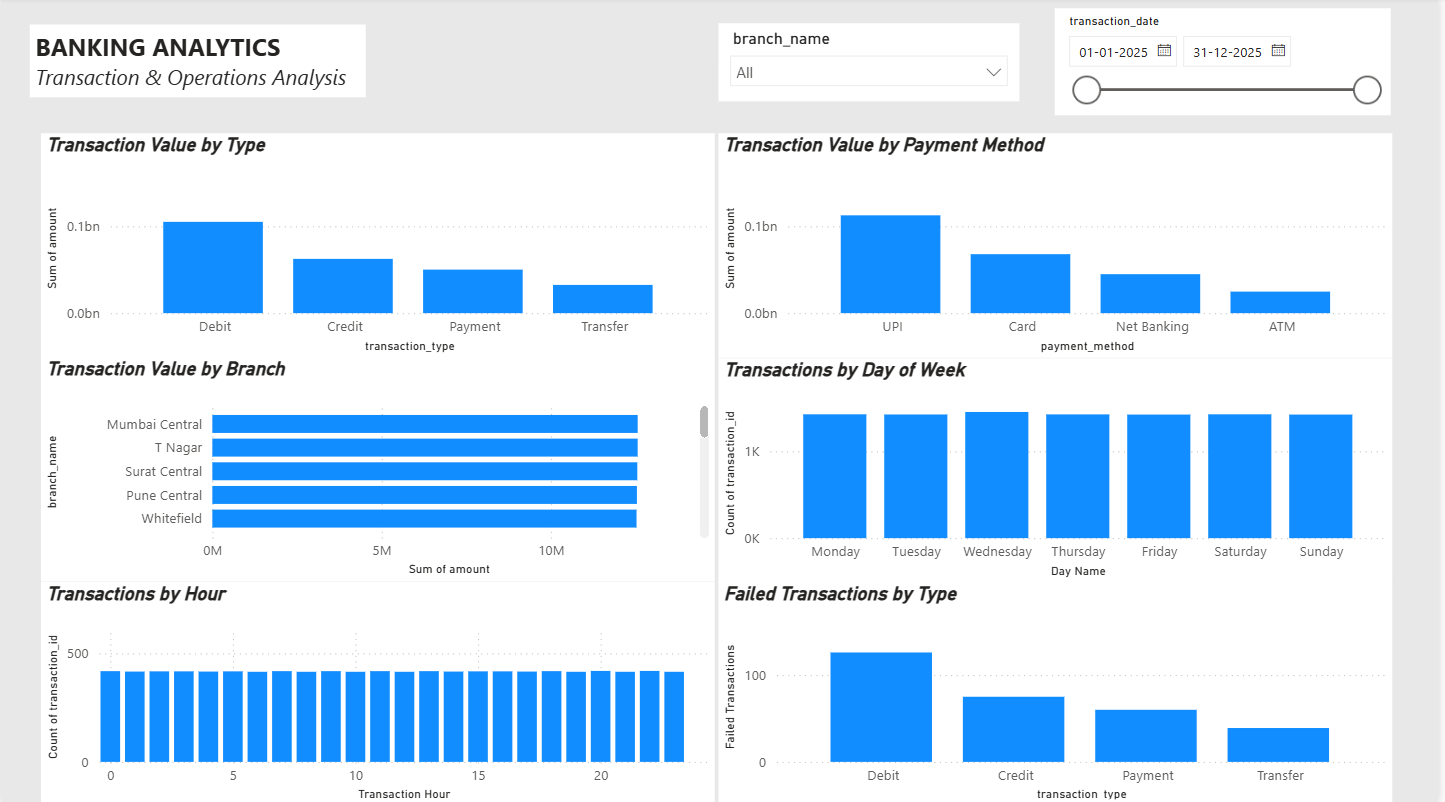

This screenshot's page, from the dashboard's own definition file:
{"tool":"powerbi","page":{"name":"Transaction & Operations Analysis","canvas":[1280,720],"ordinal":1},"visuals":[{"type":"clusteredColumnChart","title":"Transaction Value by Type","fields":{"Category":["banking_analytics transactions.transaction_type"],"Y":["Sum(banking_analytics transactions.amount)"]},"box":[36.2,121.5,600,200],"z":0},{"type":"clusteredBarChart","title":"Transaction Value by Branch","fields":{"Category":["banking_analytics branches.branch_name"],"Y":["Sum(banking_analytics transactions.amount)"]},"box":[36.2,321,600,200],"z":1000},{"type":"clusteredColumnChart","title":"Transactions by Day of Week","fields":{"Category":["banking_analytics transactions.Day Name"],"Y":["CountNonNull(banking_analytics transactions.transaction_id)"]},"box":[639.4,321.2,600,200],"z":2000},{"type":"clusteredColumnChart","title":"Transactions by Hour","fields":{"Category":["banking_analytics transactions.Transaction Hour"],"Y":["CountNonNull(banking_analytics transactions.transaction_id)"]},"box":[36.2,520.8,600,200],"z":3000},{"type":"clusteredColumnChart","title":"Failed Transactions by Type","fields":{"Category":["banking_analytics transactions.transaction_type"],"Y":["banking_analytics accounts.Failed Transactions"]},"box":[639.4,520.8,600,200],"z":4000},{"type":"clusteredColumnChart","title":"Transaction Value by Payment Method","fields":{"Category":["banking_analytics transactions.payment_method"],"Y":["Sum(banking_analytics transactions.amount)"]},"box":[639.4,121.5,600,200],"z":5000},{"type":"textbox","box":[26,24.6,299.5,65.1],"z":6000},{"type":"slicer","fields":{"Values":["banking_analytics transactions.transaction_date"]},"box":[938.9,10.1,299.5,95.5],"z":7000},{"type":"slicer","fields":{"Values":["banking_analytics branches.branch_name"]},"box":[639.4,23.1,267.6,69.4],"z":8000}]}

Visuals, with their boxes in screenshot pixels (x1, y1, x2, y2), scaled from the page's 1280x720 canvas onto the 1445x802 screenshot:
"Transaction Value by Type" clusteredColumnChart: {"left": 41, "top": 135, "right": 718, "bottom": 358}
"Transaction Value by Branch" clusteredBarChart: {"left": 41, "top": 358, "right": 718, "bottom": 580}
"Transactions by Day of Week" clusteredColumnChart: {"left": 722, "top": 358, "right": 1399, "bottom": 581}
"Transactions by Hour" clusteredColumnChart: {"left": 41, "top": 580, "right": 718, "bottom": 801}
"Failed Transactions by Type" clusteredColumnChart: {"left": 722, "top": 580, "right": 1399, "bottom": 801}
"Transaction Value by Payment Method" clusteredColumnChart: {"left": 722, "top": 135, "right": 1399, "bottom": 358}
textbox: {"left": 29, "top": 27, "right": 367, "bottom": 100}
slicer - banking_analytics transactions.transaction_date: {"left": 1060, "top": 11, "right": 1398, "bottom": 118}
slicer - banking_analytics branches.branch_name: {"left": 722, "top": 26, "right": 1024, "bottom": 103}
